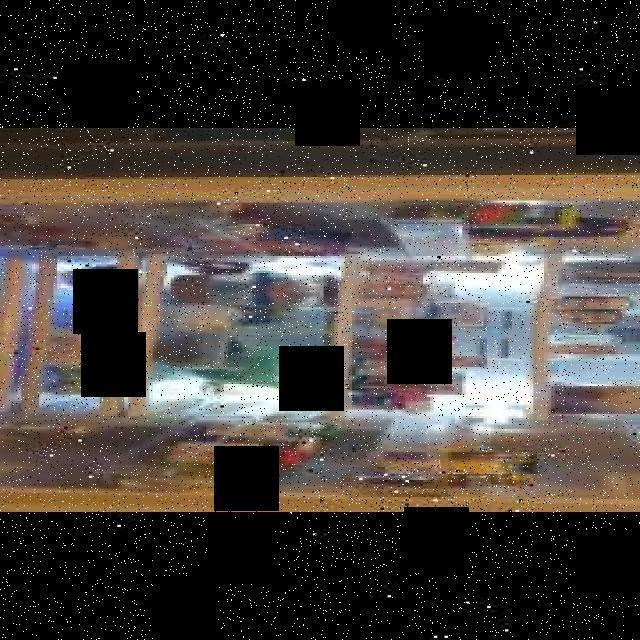mayonaise: (380, 452, 540, 474)
yogurt: (551, 298, 626, 310), (551, 313, 619, 323)
